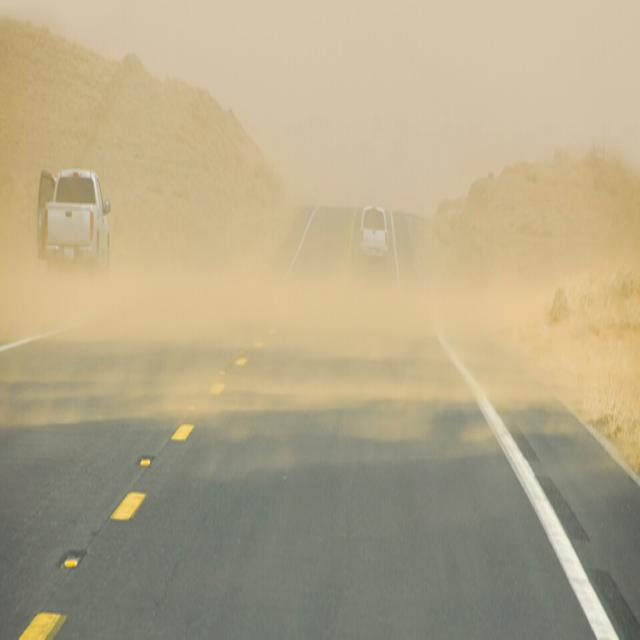car: (40, 166, 110, 268), (357, 203, 391, 268)
